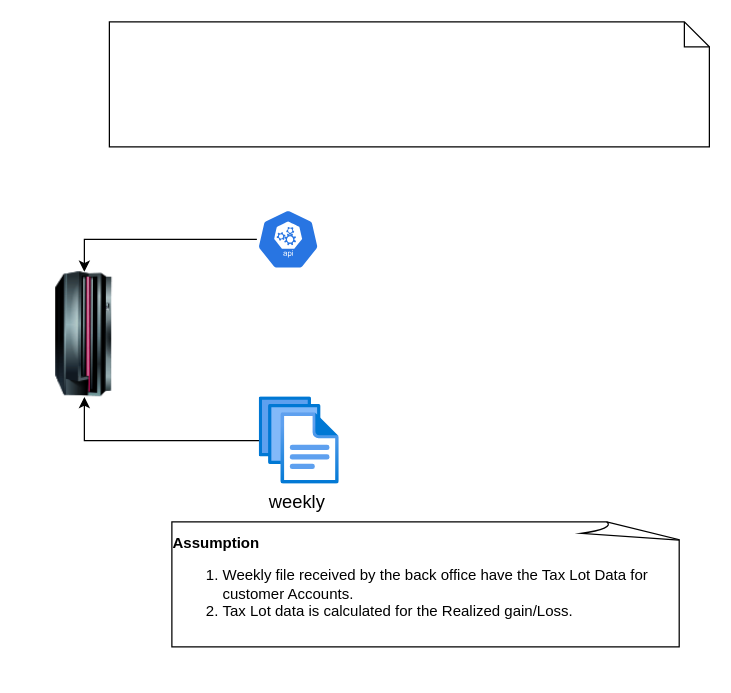
Image size: 731x693. Some labels were removed from this diagram. Here are the shapes that lost their labels. From the top down, the centre of each, then its label:
the point at 408,84: Understanding of the current system: Account Security Positions for customers
the point at 287,238: Accounts Service
